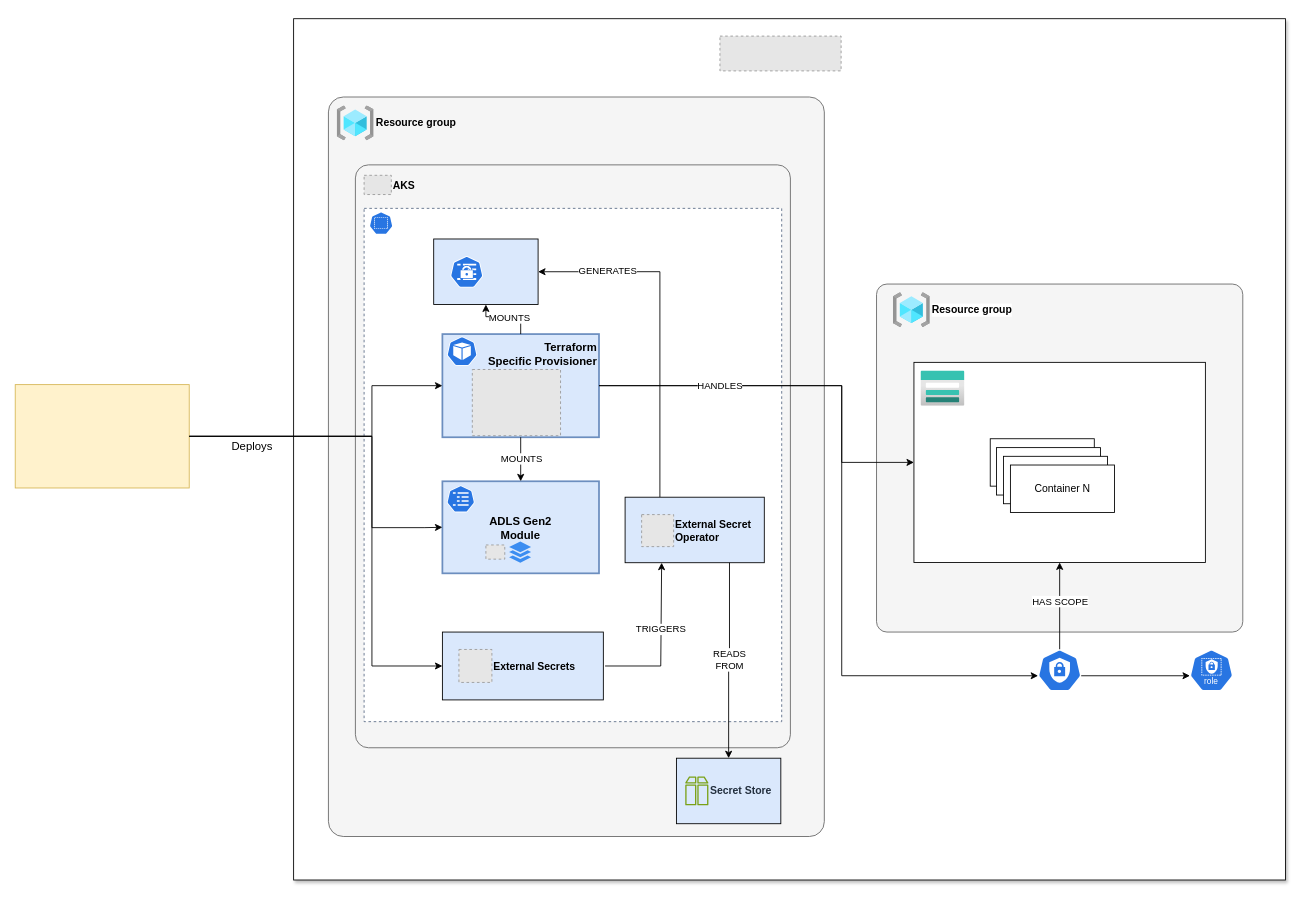
Image size: 1306x901. Some labels were removed from this diagram. Grey dashed boxes stand in for pictures. The shapes that lost their labels are listed below. From the top down, each one's centre as x and y in pixels, then its label:
At (466,271): "Secrets".
At (942,388): "Azure Data Lake Storage Gen 2 Storage account".
At (101,436): "Azure ADLS Umbrella Chart".
At (520,551): ".tf files".
At (1059,670): "Role assignment".
